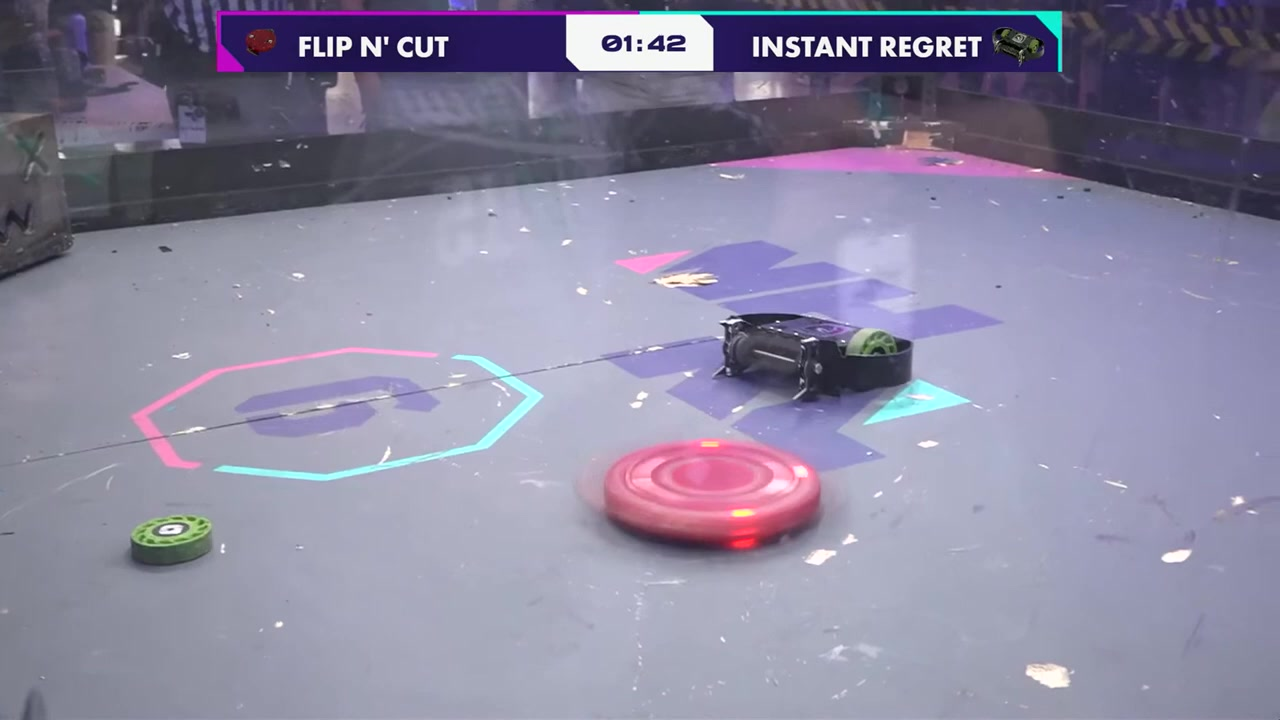combatbot: (602, 437, 822, 553), (714, 310, 914, 406)
housebot: (0, 108, 74, 295)
wheel: (125, 516, 217, 566)
